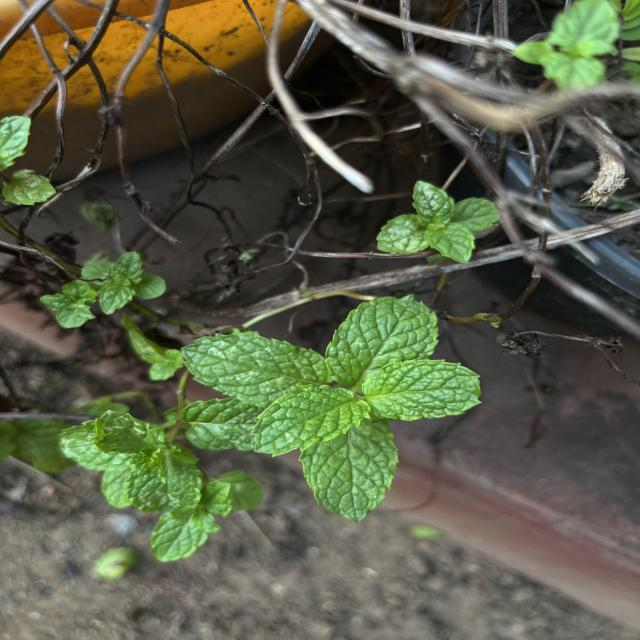Mentha spicata: (180, 331, 326, 408), (323, 293, 438, 387), (298, 422, 401, 526), (248, 383, 372, 458), (361, 358, 484, 423)
